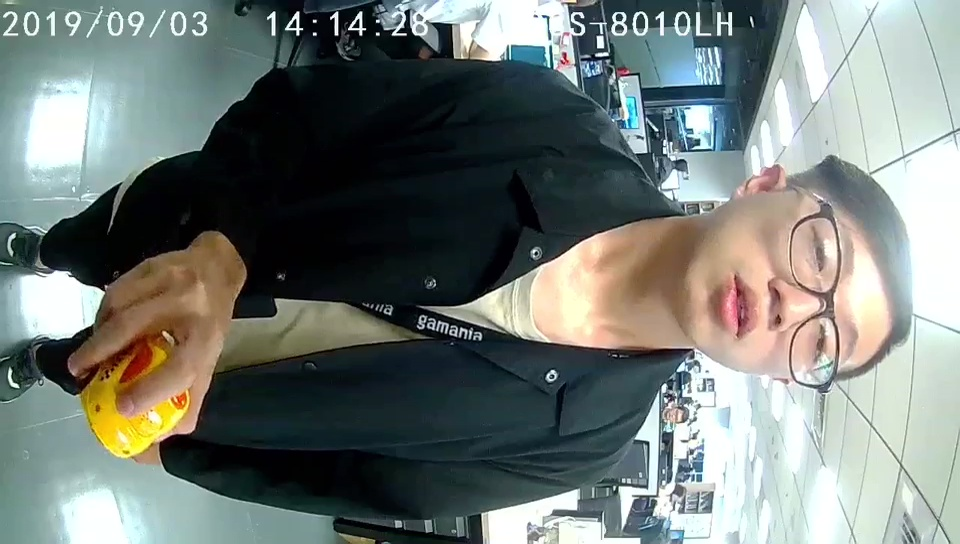car: (83, 343, 188, 458)
